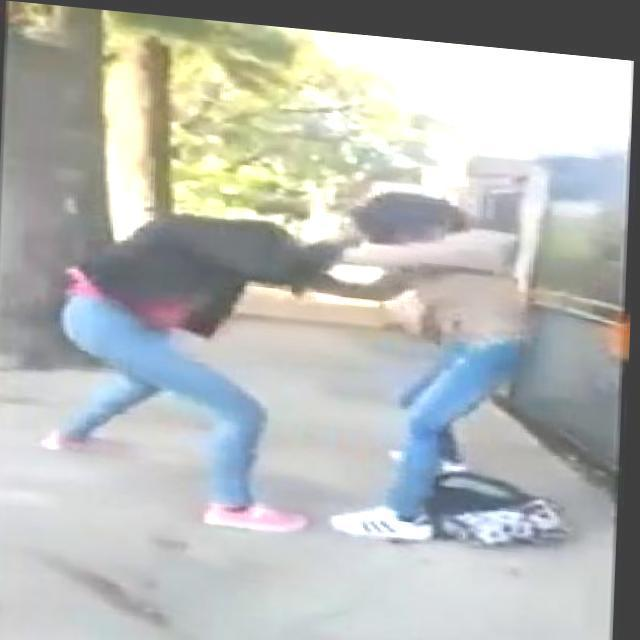fight: (54, 156, 540, 534)
